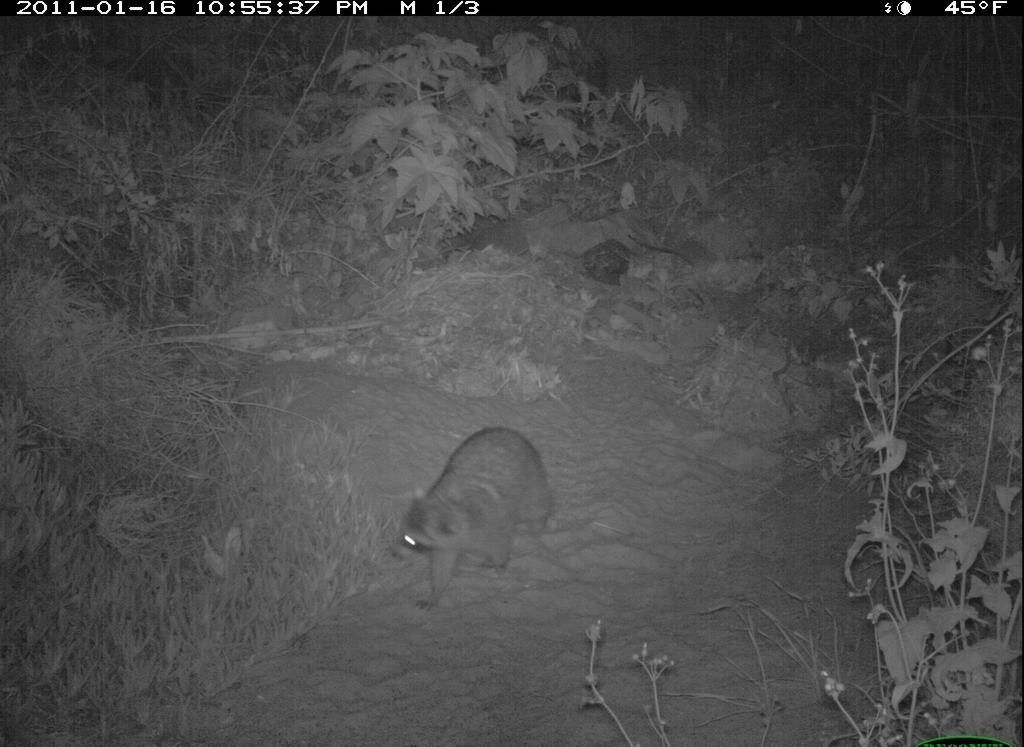raccoon: (385, 417, 565, 616)
